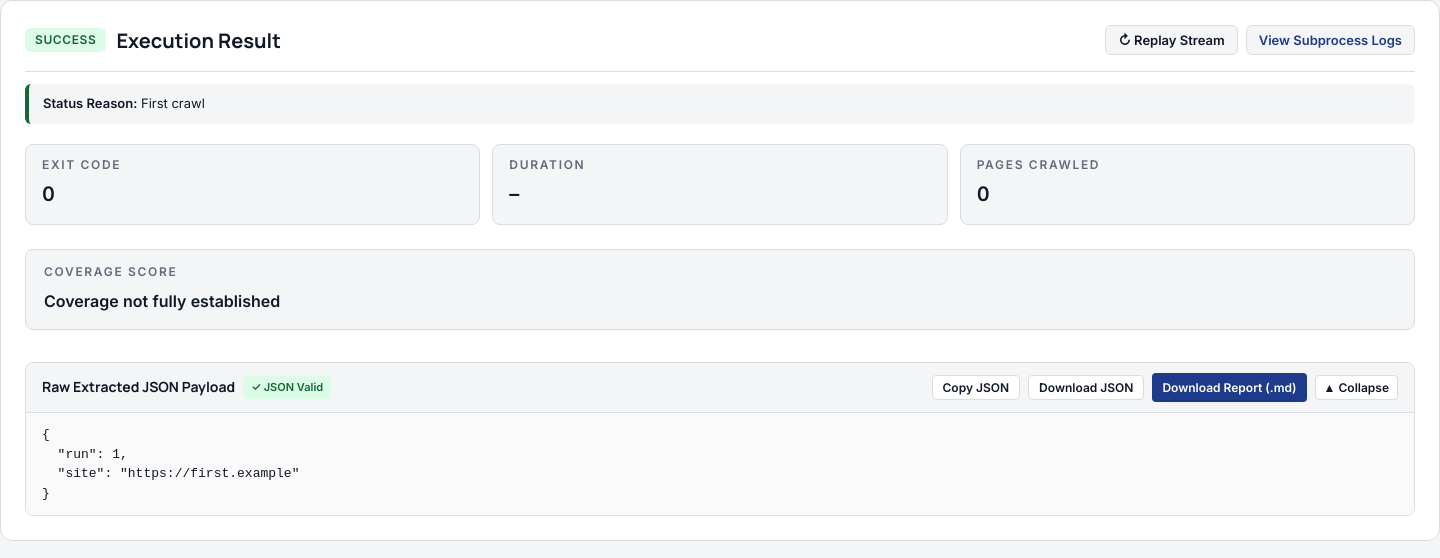
Test: Timeline DNS Failure & Step States › automatically re-expands for each new execution result
Later steps or results of the test are not shown.
Click the button "▲ Collapse". click: click(1356, 388)
box: left=1315, top=375, right=1398, bottom=400
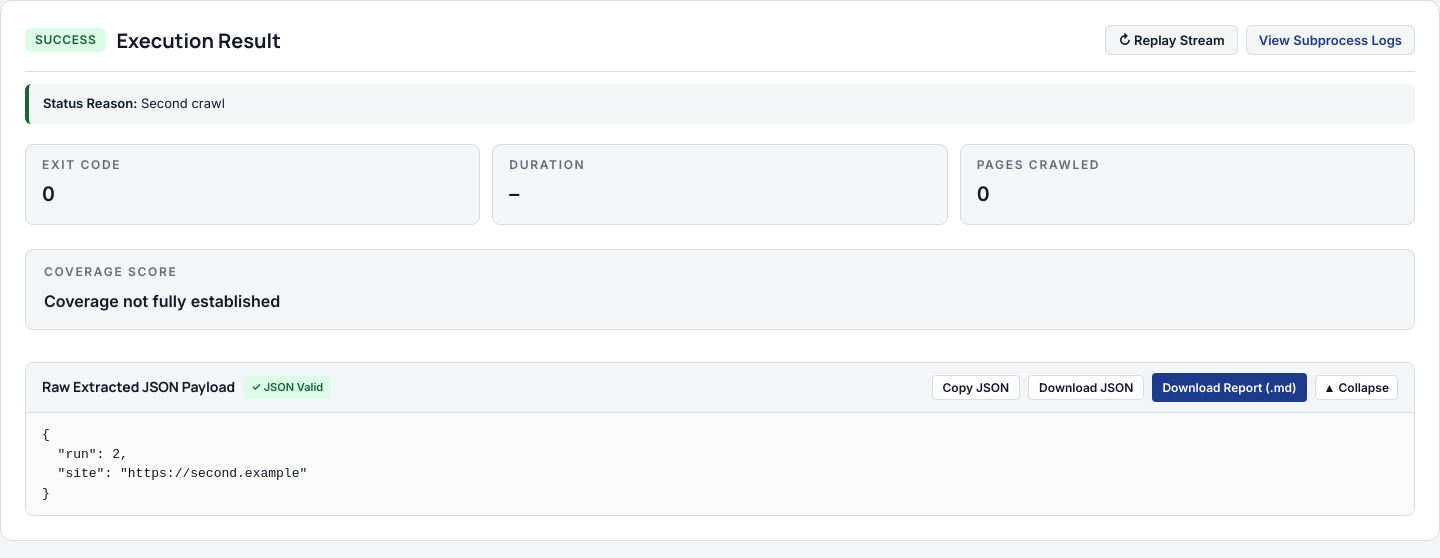
Check: the text with class "monospace-view" shows "https://second.example", box left=42, top=427, right=307, bottom=501
